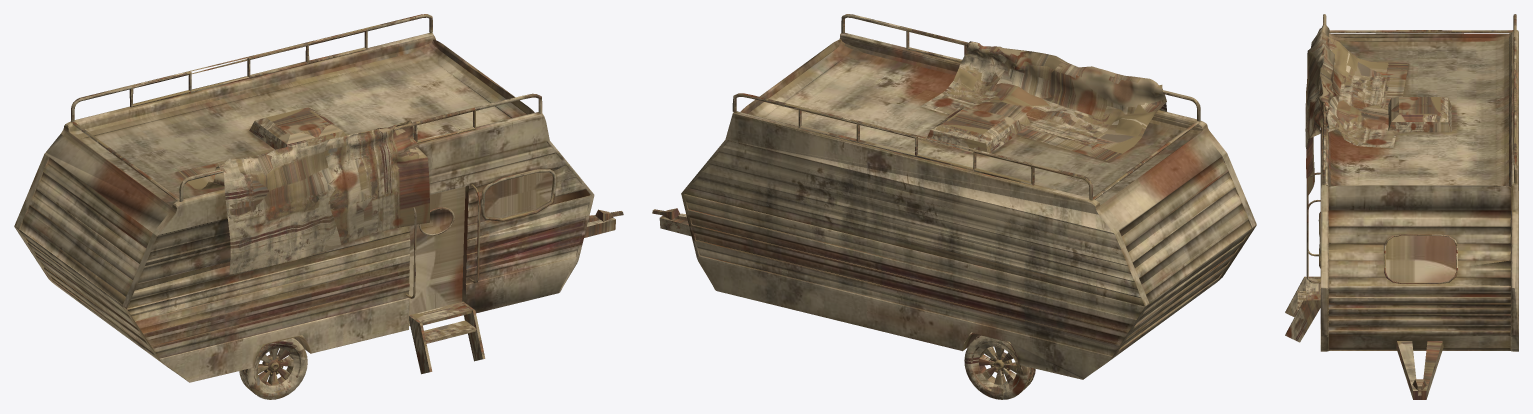
File: rv_trailer.glb
3 views of the same model, side by side, from view 1: azimuth 30°, elevation 25°; view 2: azimuth 150°, elevation 25°; view 3: azimuth 270°, elevation 25° (orthographic). The views are drawn at different scales.
Visible parts, largest first — view 1: dock; view 2: dock; view 3: dock.
Boxes of the visible parts, x1,y1,x2,y2 form: dock: (14, 14, 623, 399); dock: (652, 14, 1256, 399); dock: (1285, 14, 1518, 399).
Size of the model in its own units: 8.47 by 3.78 by 3.54.
Materials: 8 (8 with a texture image).
